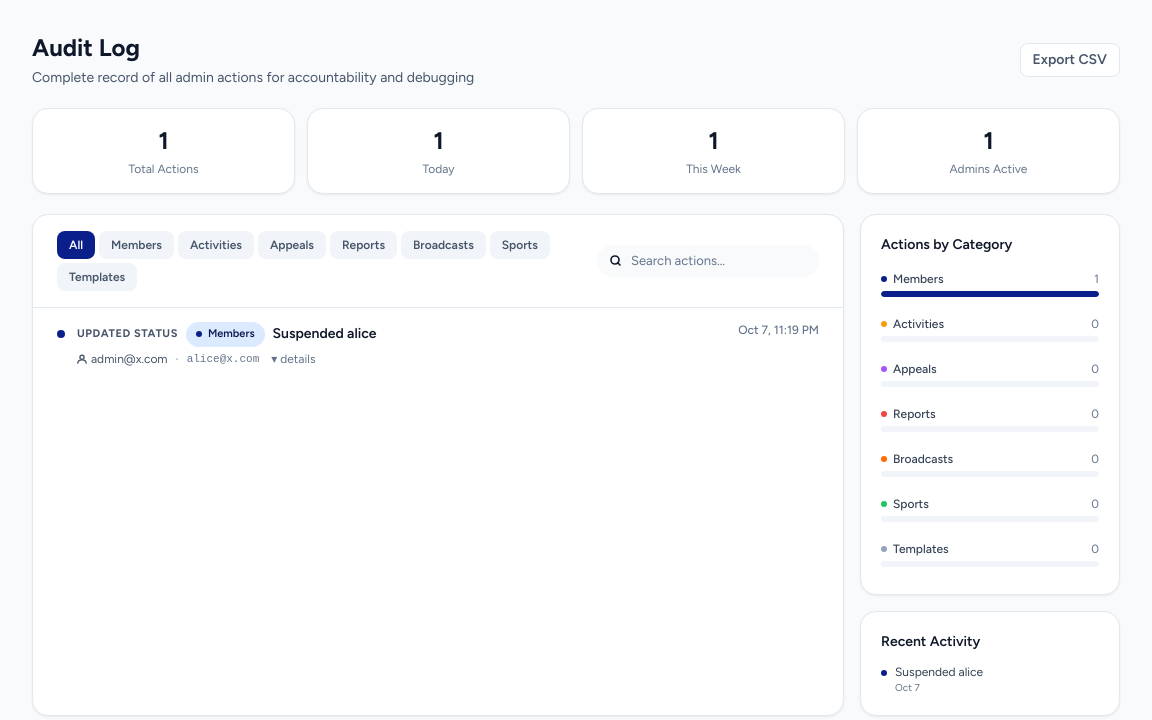
Scenario: AuditLogPage › shows the empty state when no entries match the filters
Type "nonexistent" into the field with placeholder "Search actions…" at (719, 261), box [631,251,807,271]
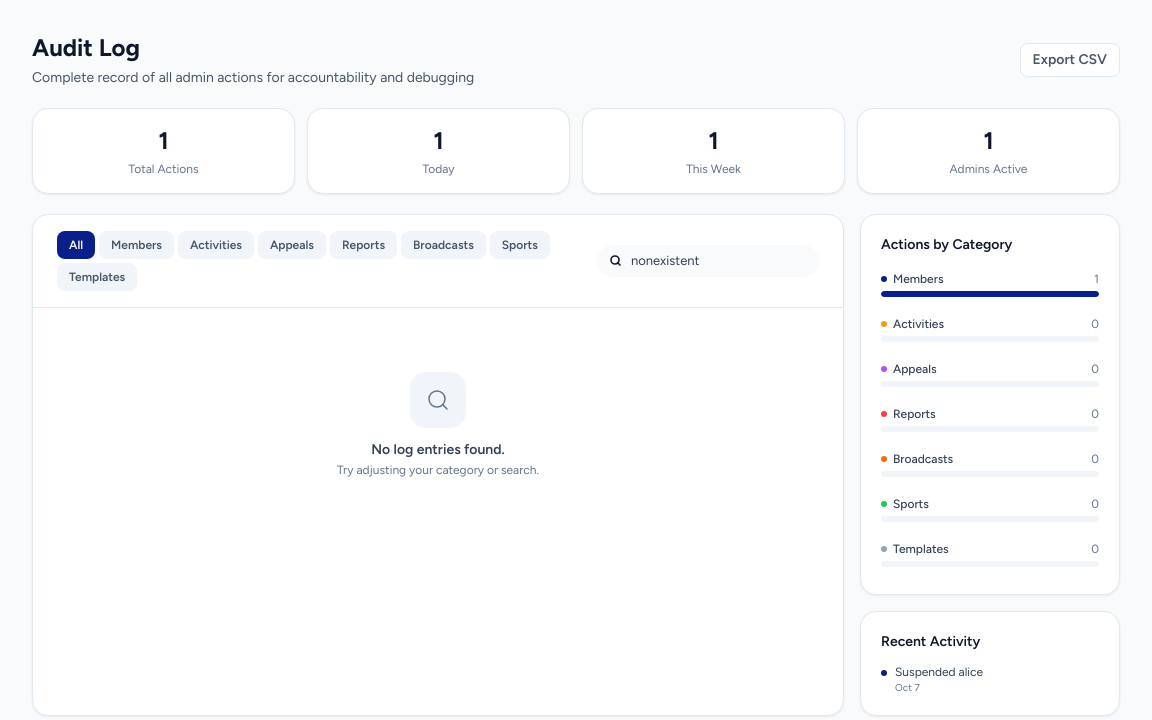
Expected: the text "No log entries found." is shown, [371,441,505,458]
